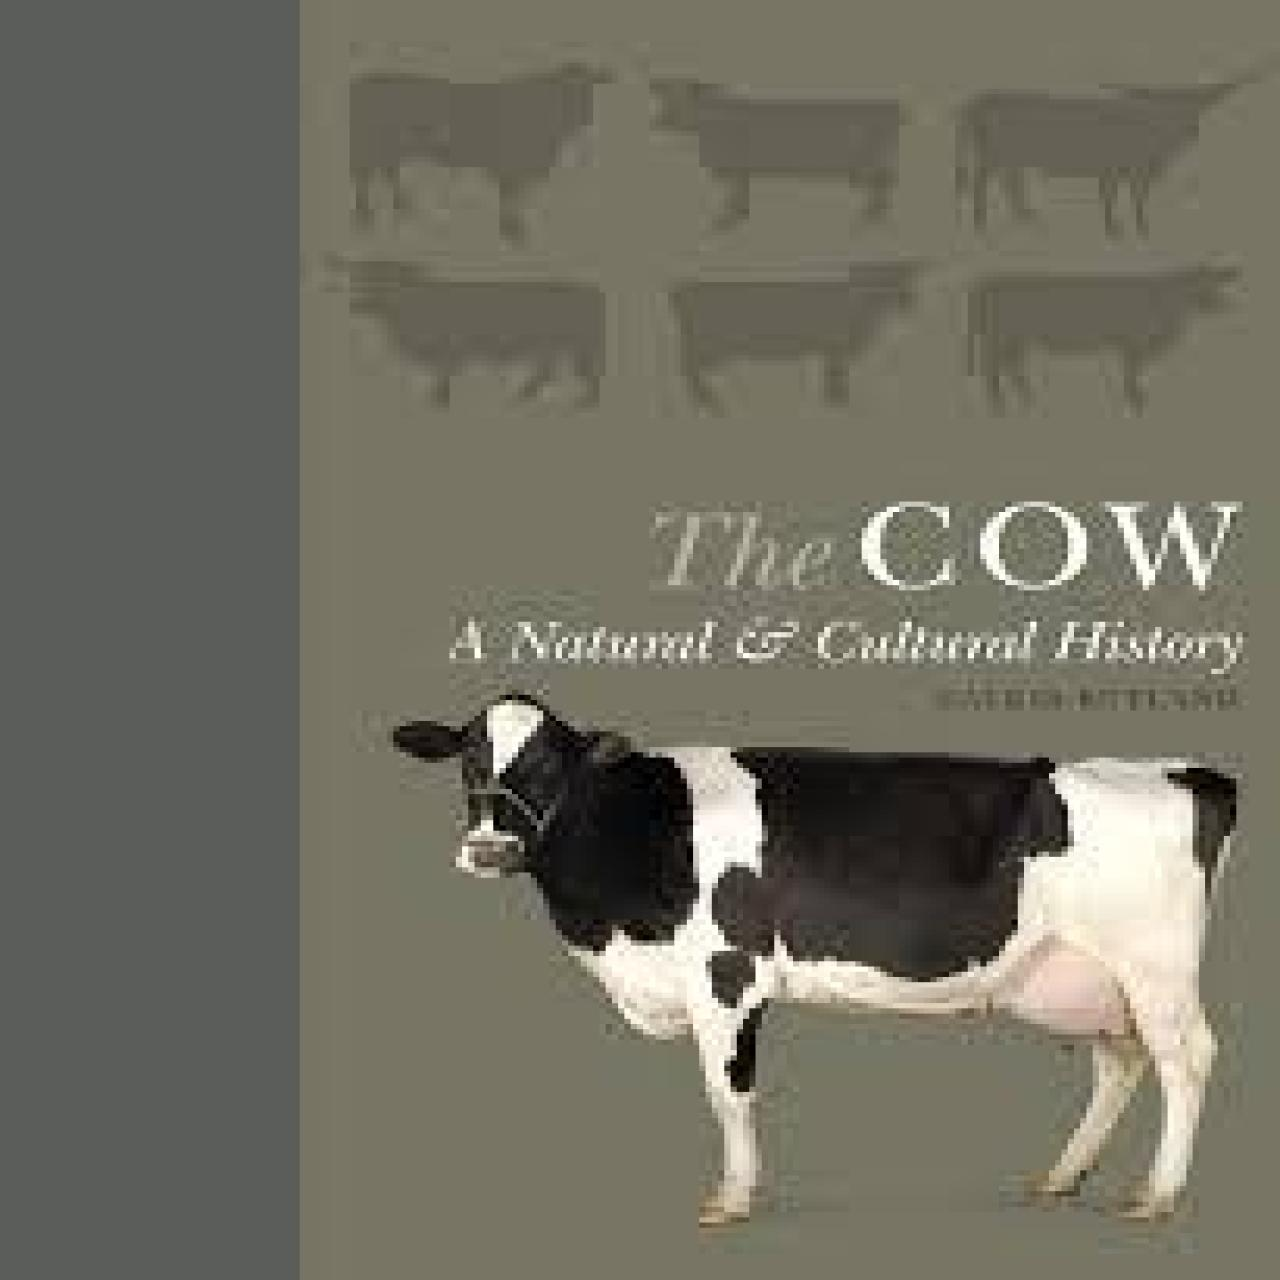cow: (390, 685, 1239, 1227), (343, 53, 625, 246), (952, 76, 1258, 243), (340, 248, 614, 415), (959, 253, 1239, 415), (668, 251, 937, 418), (649, 73, 912, 230)
